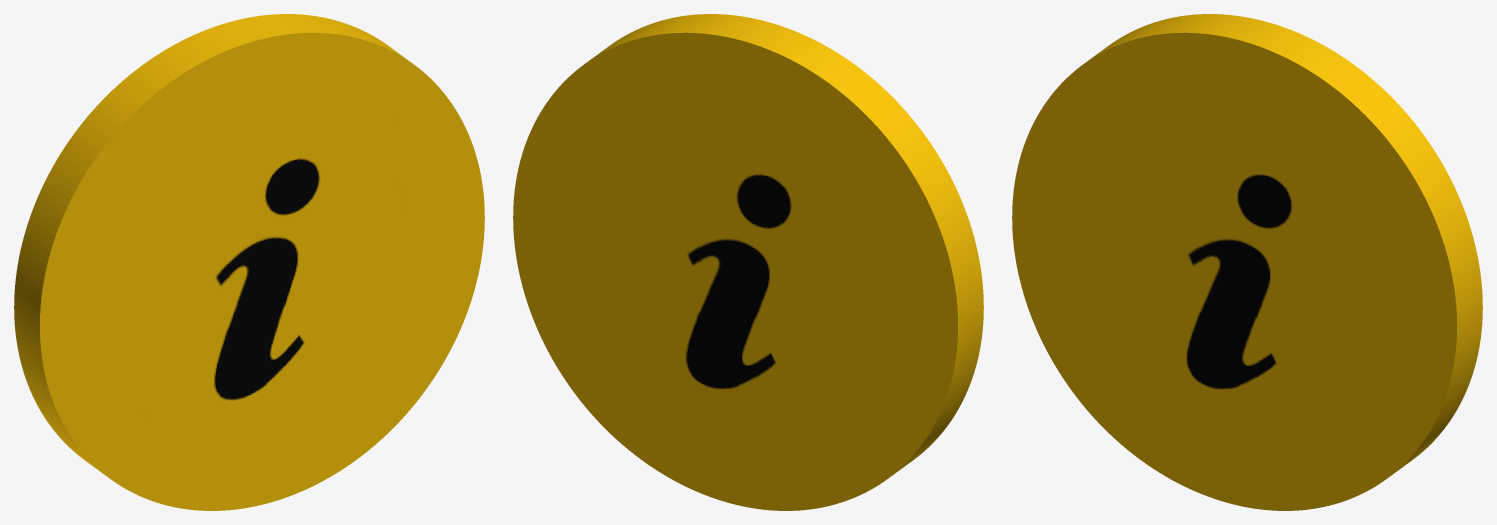
Rendered from info_button.dae.
3 views of the same model, side by side, from view 1: azimuth 30°, elevation 25°; view 2: azimuth 150°, elevation 25°; view 3: azimuth 330°, elevation 25° (orthographic).
Visible parts, largest first — view 1: Cylinder.001; view 2: Cylinder.001; view 3: Cylinder.001.
Boxes of the visible parts, bbox=[...] form: Cylinder.001: bbox=[14, 14, 484, 510]; Cylinder.001: bbox=[513, 14, 983, 510]; Cylinder.001: bbox=[1012, 14, 1482, 510].
Bounding box in the file's own units: 0.3 × 0.03 × 0.3.
